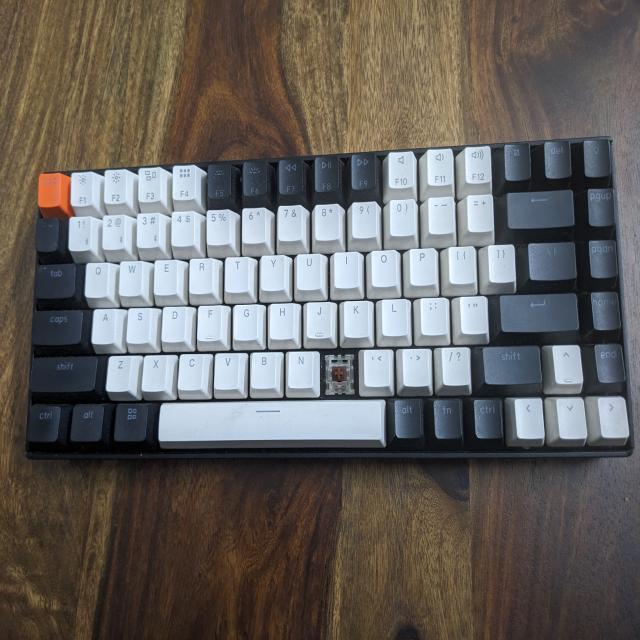key-switch: (323, 351, 354, 393)
